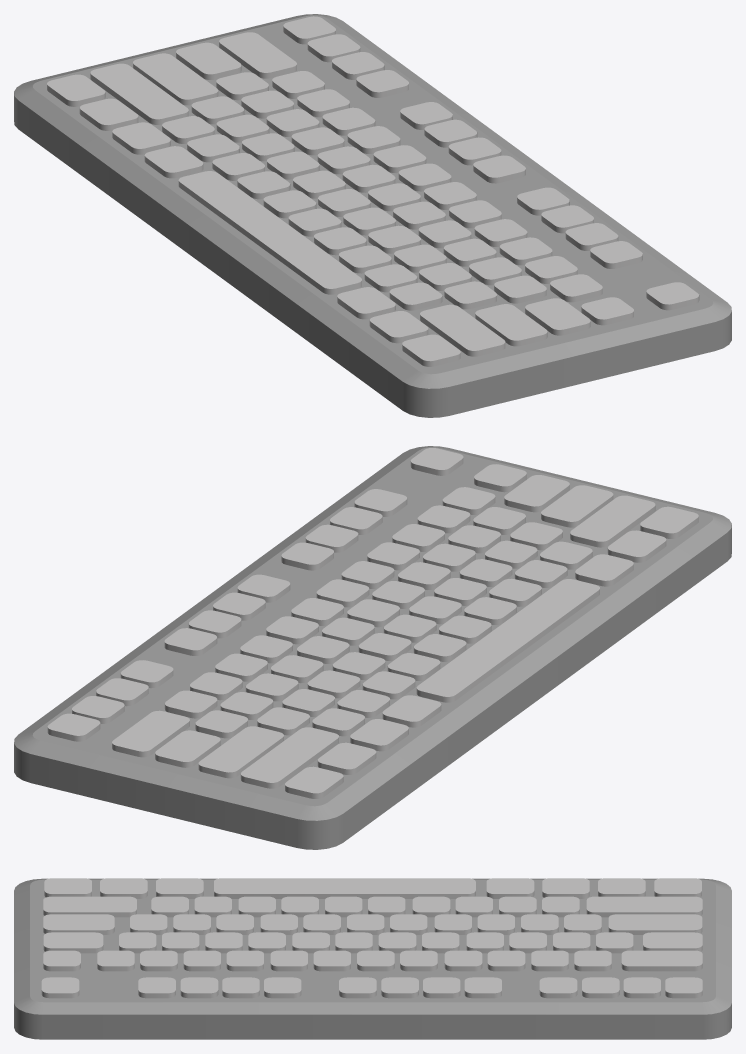
The model's file is F_Keyboard.fbx.
3 views of the same model, one above another, from view 1: azimuth 30°, elevation 25°; view 2: azimuth 150°, elevation 25°; view 3: azimuth 270°, elevation 25° (orthographic). The views are drawn at different scales.
Visible parts, largest first — view 1: F_Keyboard; view 2: F_Keyboard; view 3: F_Keyboard.
Boxes of the visible parts, x1,y1,x2,y2 form: F_Keyboard: (14,14,731,417); F_Keyboard: (14,446,731,849); F_Keyboard: (14,878,731,1039).
Bounding box in the file's own units: 17.4 × 2.13 × 38.81.
1 material, 1 textured.
